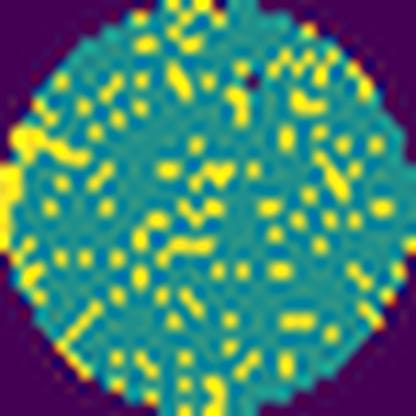Edge-Loc: (0, 121, 92, 267)
